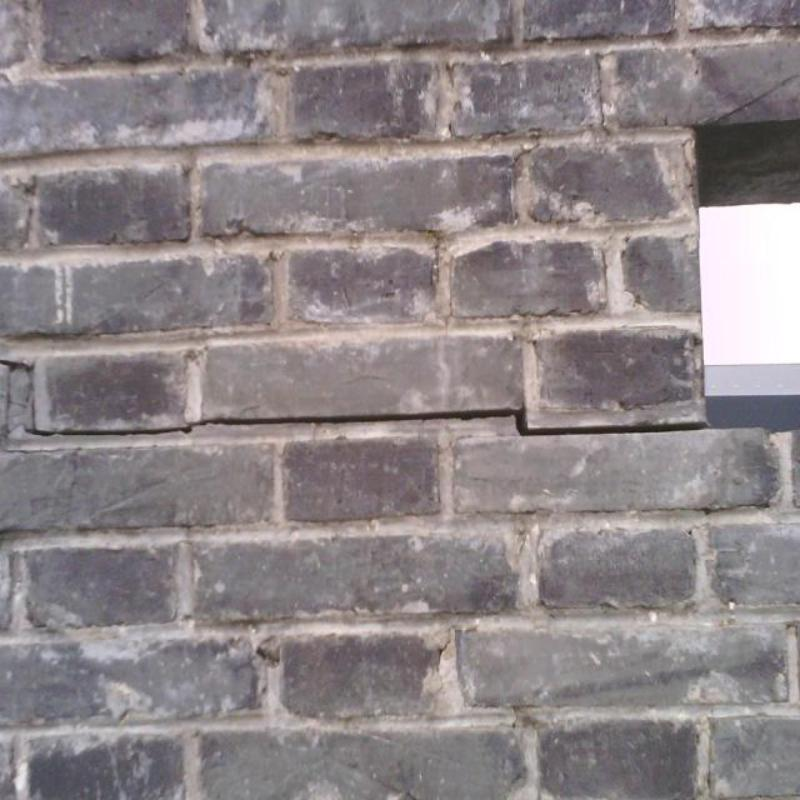pothole: (26, 400, 711, 438), (710, 74, 798, 124), (436, 630, 453, 686), (512, 136, 541, 162), (0, 359, 35, 374)
